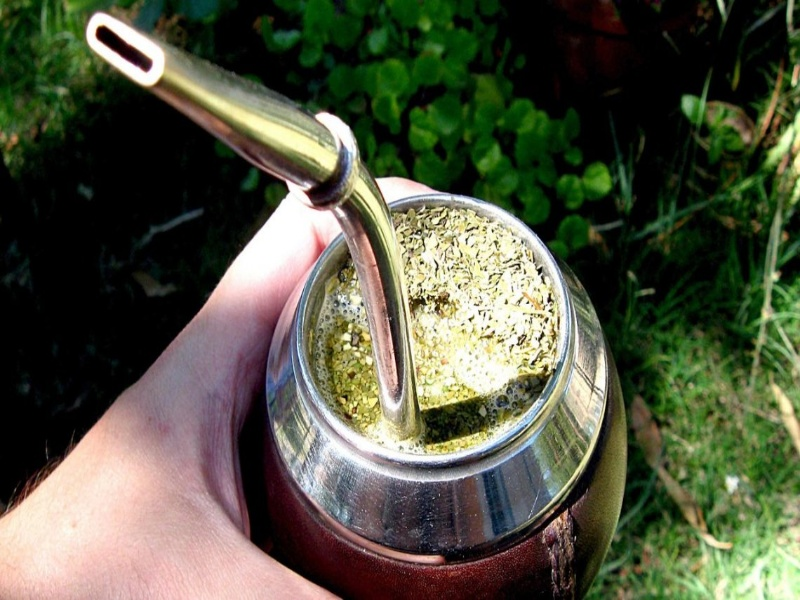guampa: (82, 9, 687, 600)
